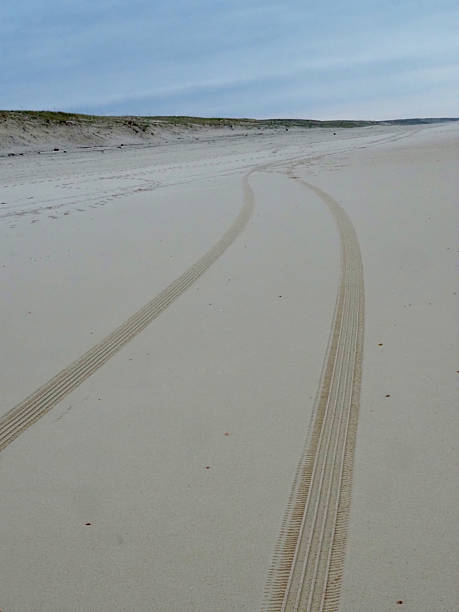vehicle_track: (0, 173, 253, 450), (264, 177, 363, 611)
